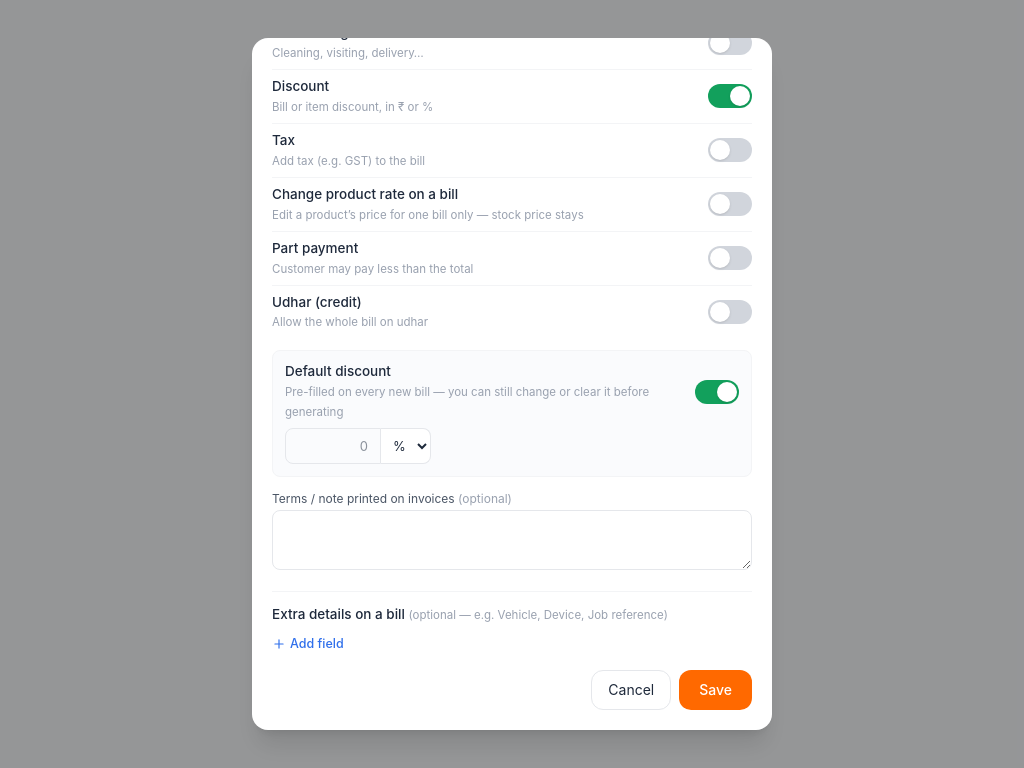
Default discount setting › refuses an empty amount while enabled, and a percentage above 100 — nothing is sent
(page scrolled)
Click the button "Save" at x=716, y=690, box [679,670,752,710]
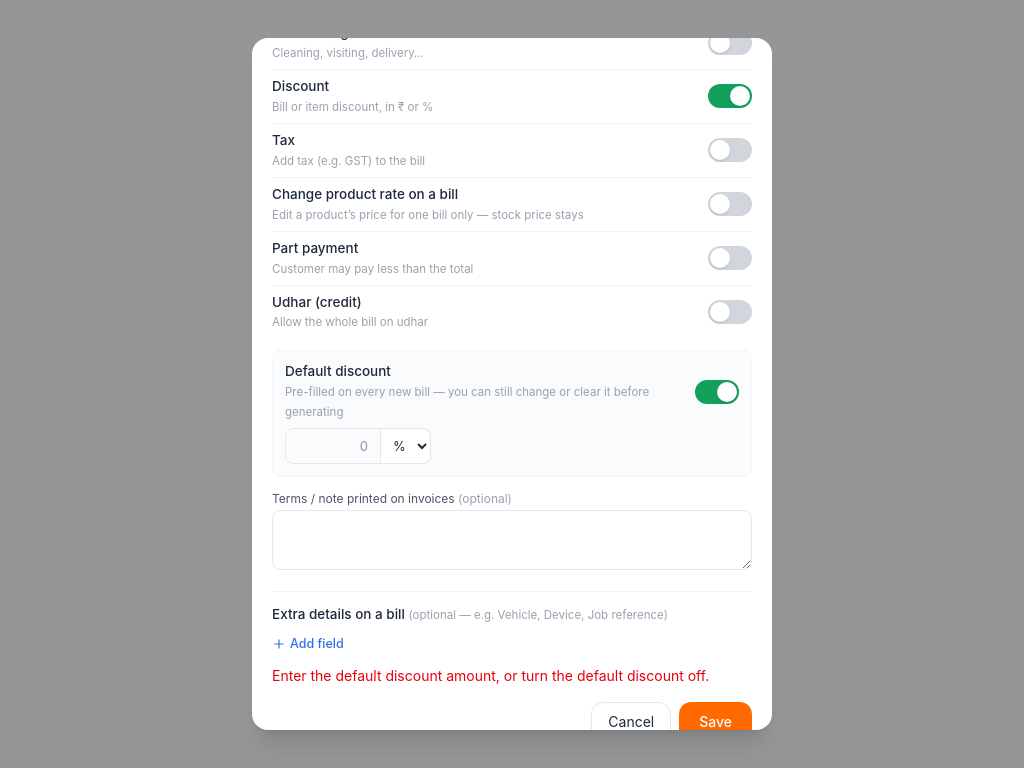
Expected: the text "Enter the default discount amount" is shown, [272,667,709,684]
Type "150" into the field named "Default discount value" at x=333, y=446, box [285,428,381,464]
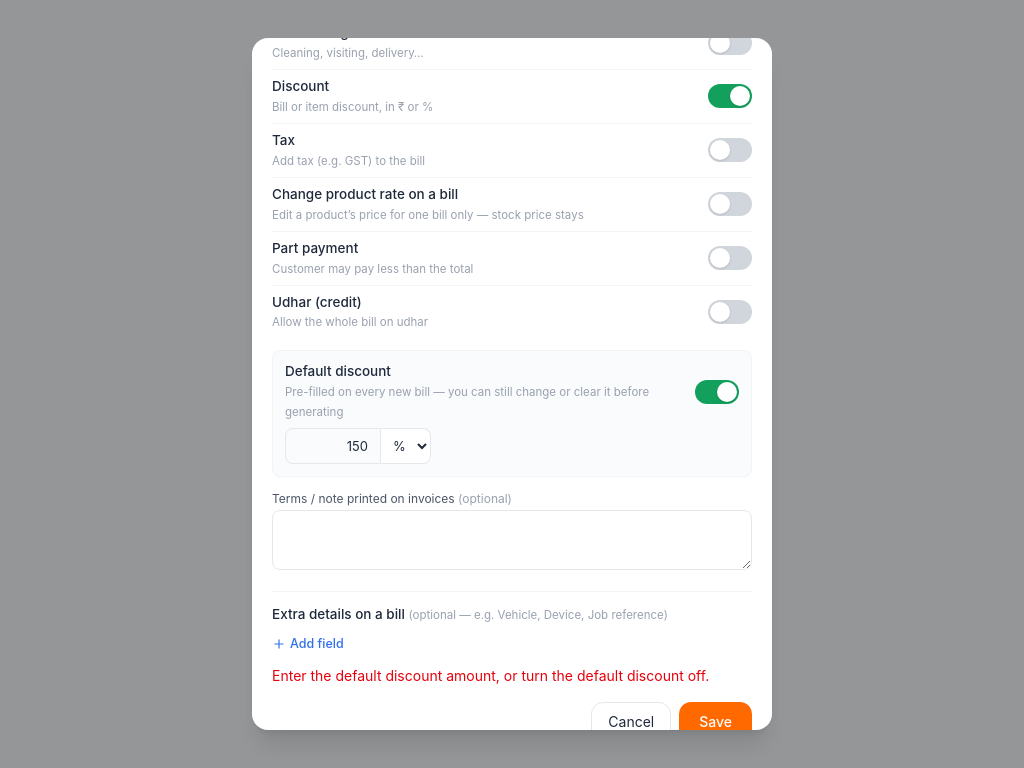
Click the button "Save" at x=716, y=722, box [679,702,752,742]
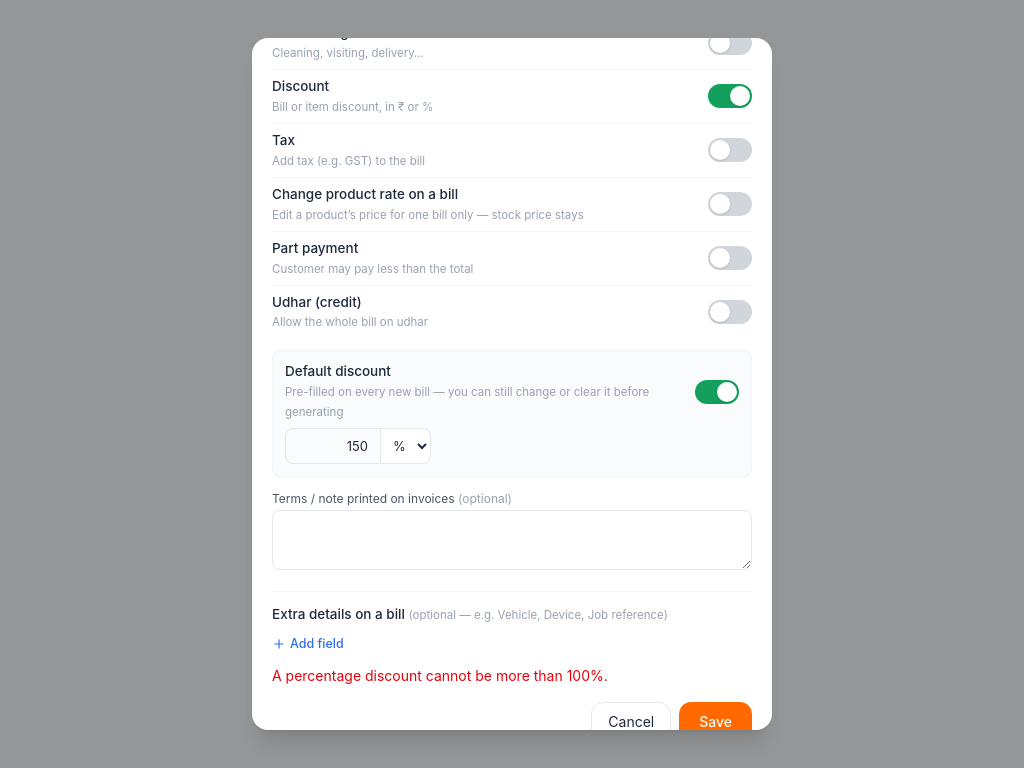
Expected: the text "A percentage discount cannot be more than 100%." is shown, [272,667,608,684]
